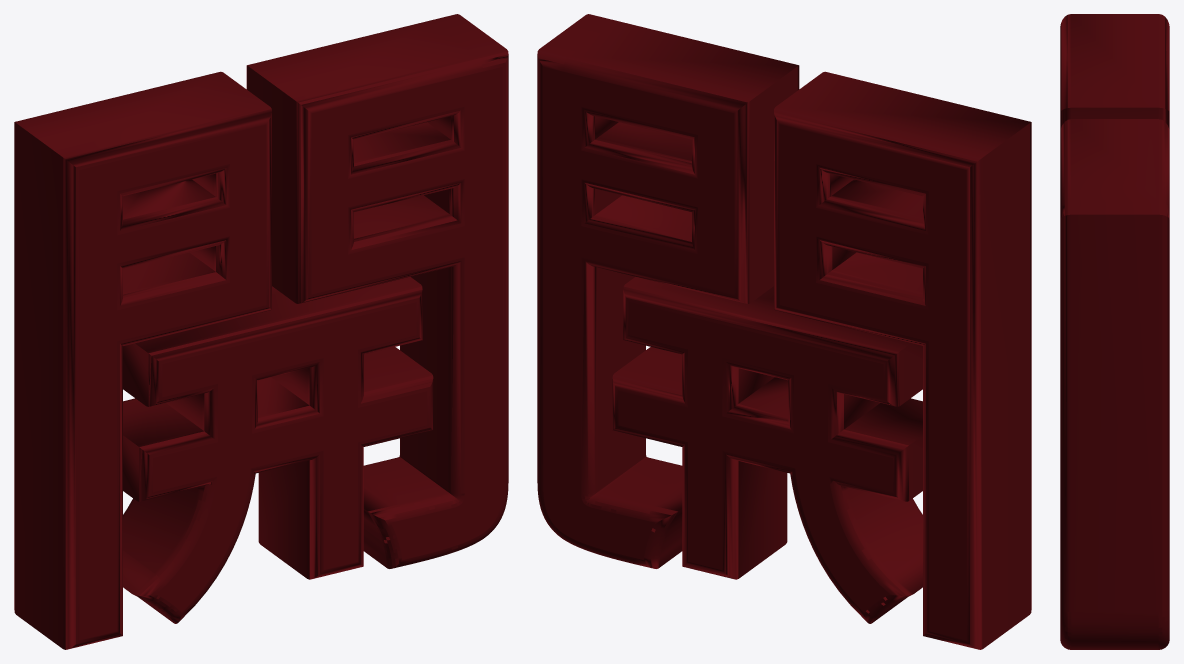
Rendered from MottoHoi.fbx.
3 views of the same model, side by side, from view 1: azimuth 30°, elevation 25°; view 2: azimuth 150°, elevation 25°; view 3: azimuth 270°, elevation 25° (orthographic). The views are drawn at different scales.
Visible parts, largest first — view 1: 文本.060; view 2: 文本.060; view 3: 文本.060.
Boxes of the visible parts, x1,y1,x2,y2 form: 文本.060: [14, 14, 508, 649]; 文本.060: [537, 14, 1031, 649]; 文本.060: [1060, 14, 1169, 649].
Size of the model in its own units: 86.7 by 20 by 92.05.
